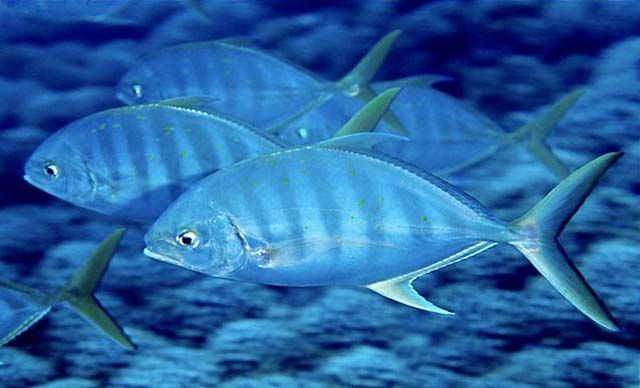fish: (143, 145, 623, 334), (23, 103, 359, 235)
